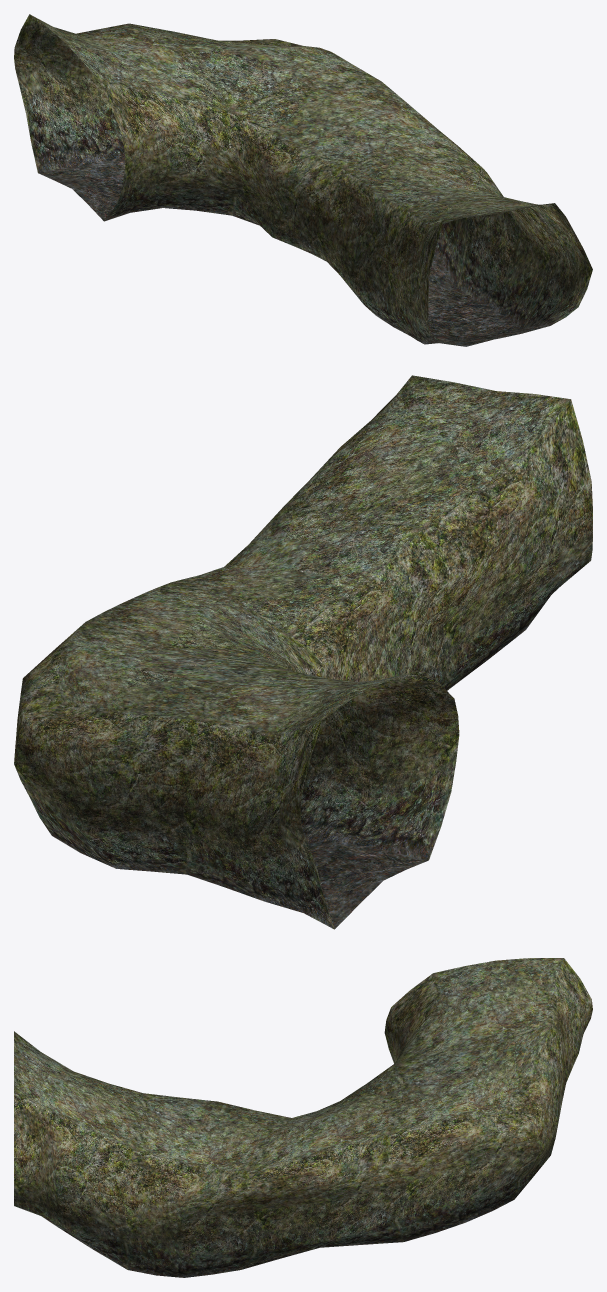
Rendered from thm_all_cave_s02_damprock_mirror_r10_mesh_r10.fbx.
The picture shows the model from 3 angles, top to bottom: view 1: azimuth 30°, elevation 25°; view 2: azimuth 150°, elevation 25°; view 3: azimuth 270°, elevation 25°; orthographic projection. The views are drawn at different scales.
Visible parts, largest first — view 1: mesh_node; view 2: mesh_node; view 3: mesh_node.
Part boxes in pixels (<box>): mesh_node: <box>14,14,592,346</box>; mesh_node: <box>14,375,592,929</box>; mesh_node: <box>14,958,592,1277</box>.
Bounding box in the file's own units: 22.26 × 15.73 × 41.06.
